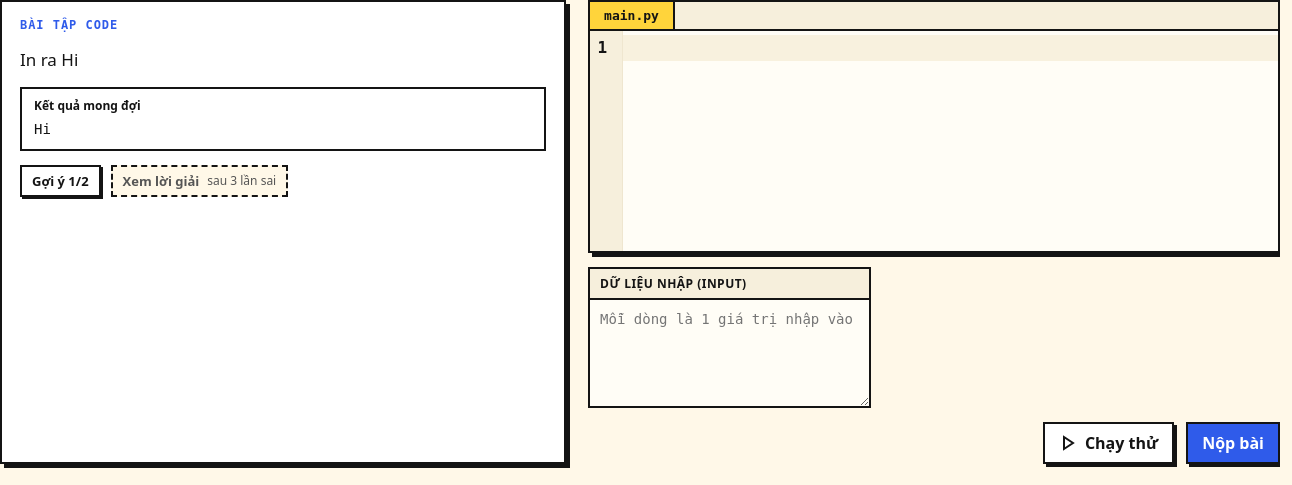
Scenario: CodeExerciseView › hints appear one by one
The image size is (1292, 485).
Click the button "Gợi ý 1/2". click: (60, 181)
box: [20, 165, 101, 197]
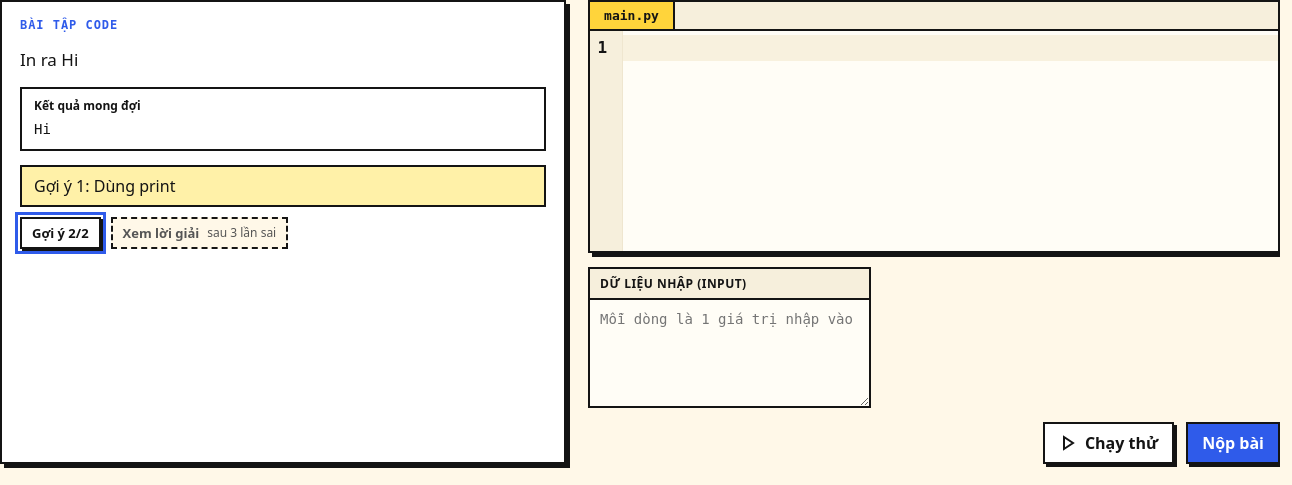
Expected: the text "Gợi ý 1: Dùng print" is shown, [20, 165, 546, 207]
Click the button "Gợi ý 2/2". click: (60, 233)
box: [20, 217, 101, 249]
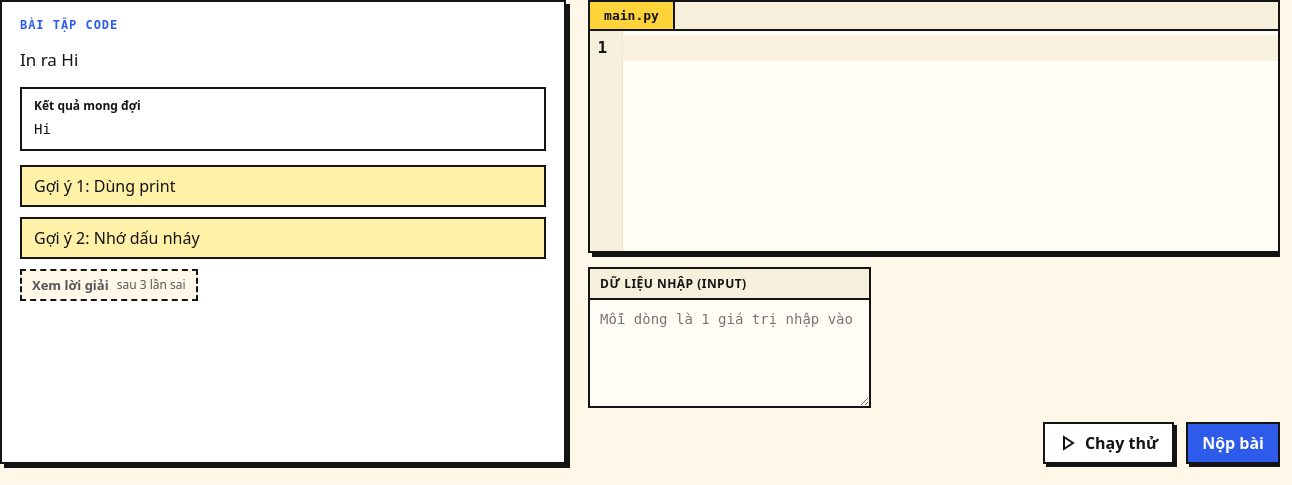
Expected: the text "Gợi ý 2: Nhớ dấu nháy" is shown, [20, 217, 546, 259]
